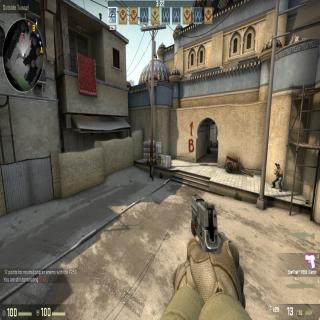T-Body: (271, 163, 283, 191), (149, 156, 155, 180)
T-Head: (276, 162, 280, 170), (150, 155, 154, 161)
